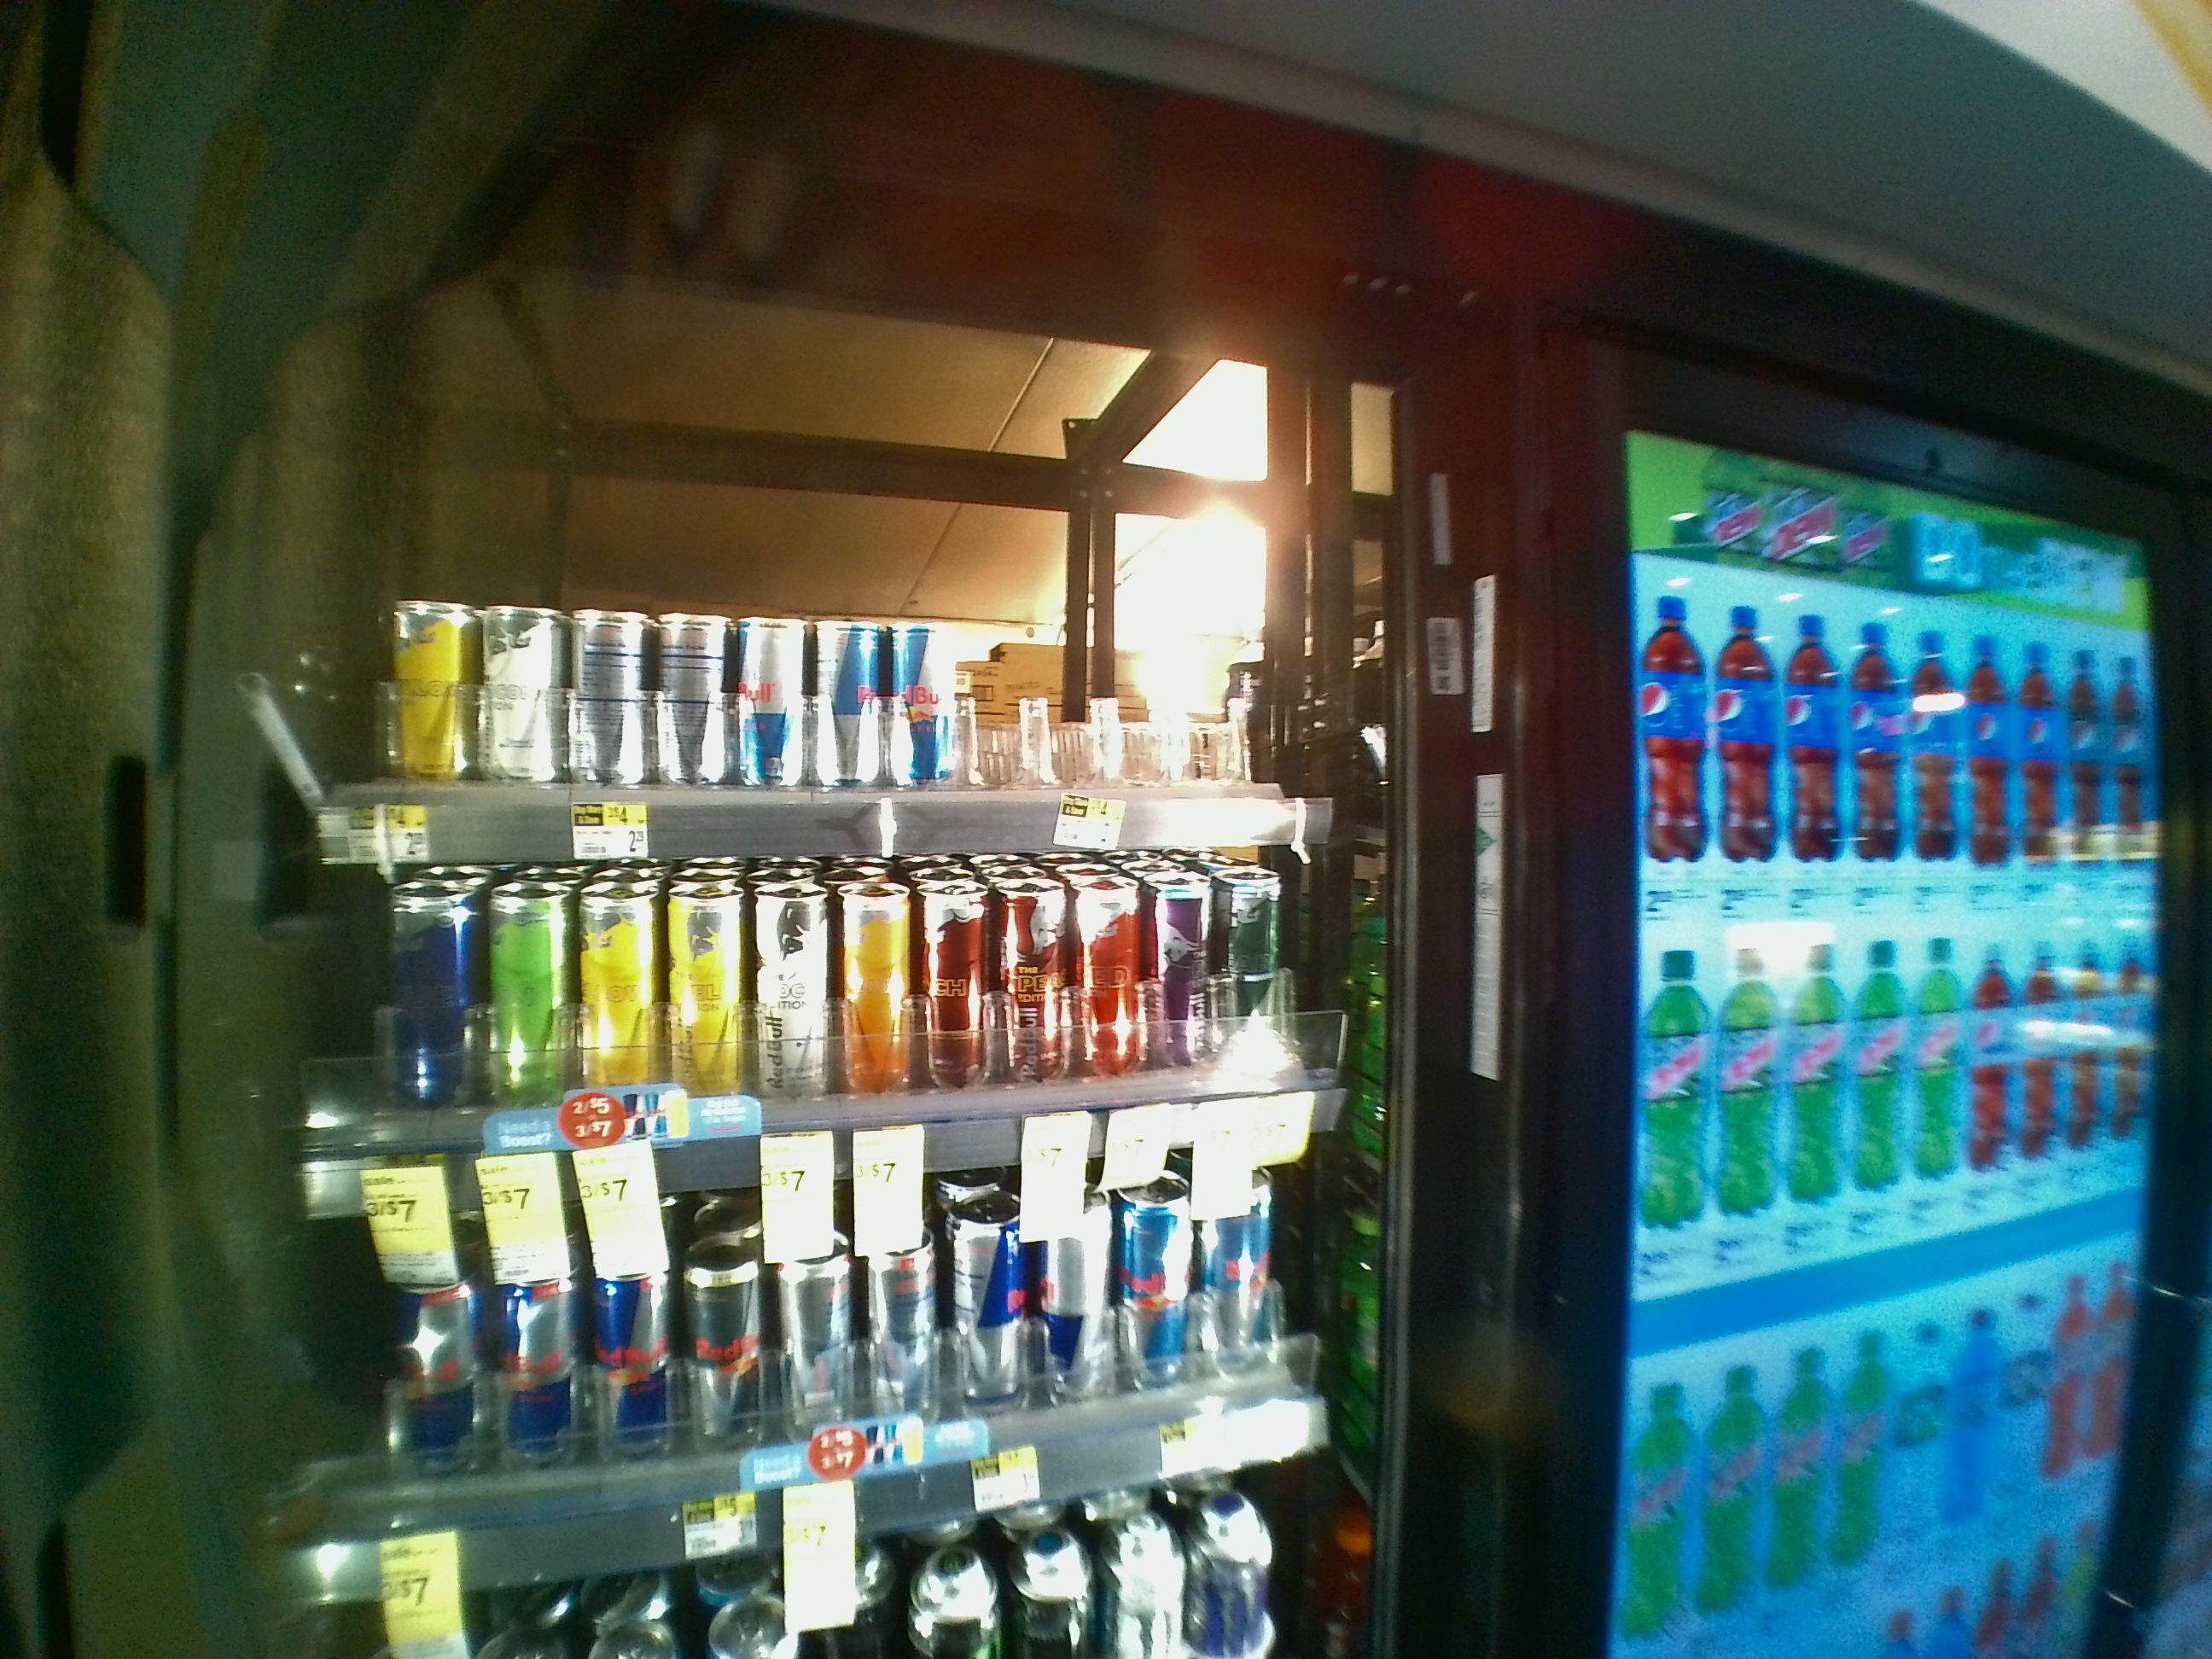shelf: (296, 279, 1402, 847), (287, 845, 1399, 1190)
